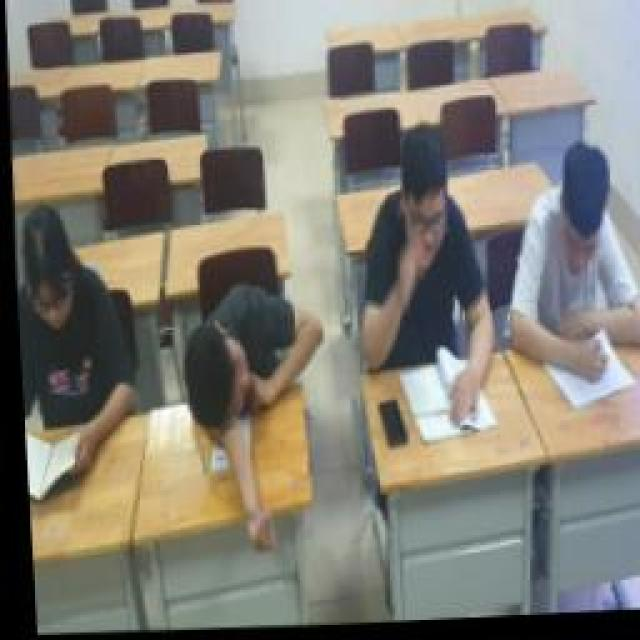sleep: (175, 285, 327, 537)
study: (340, 127, 498, 425), (10, 200, 140, 495), (495, 145, 640, 393)
